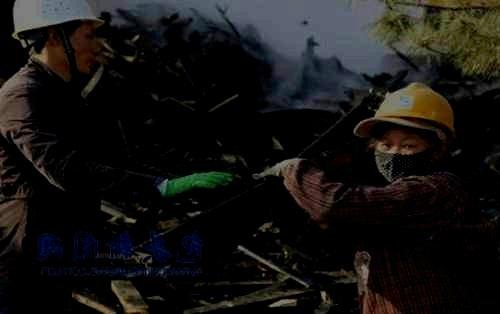helmet: (372, 82, 454, 183), (11, 1, 106, 74)
